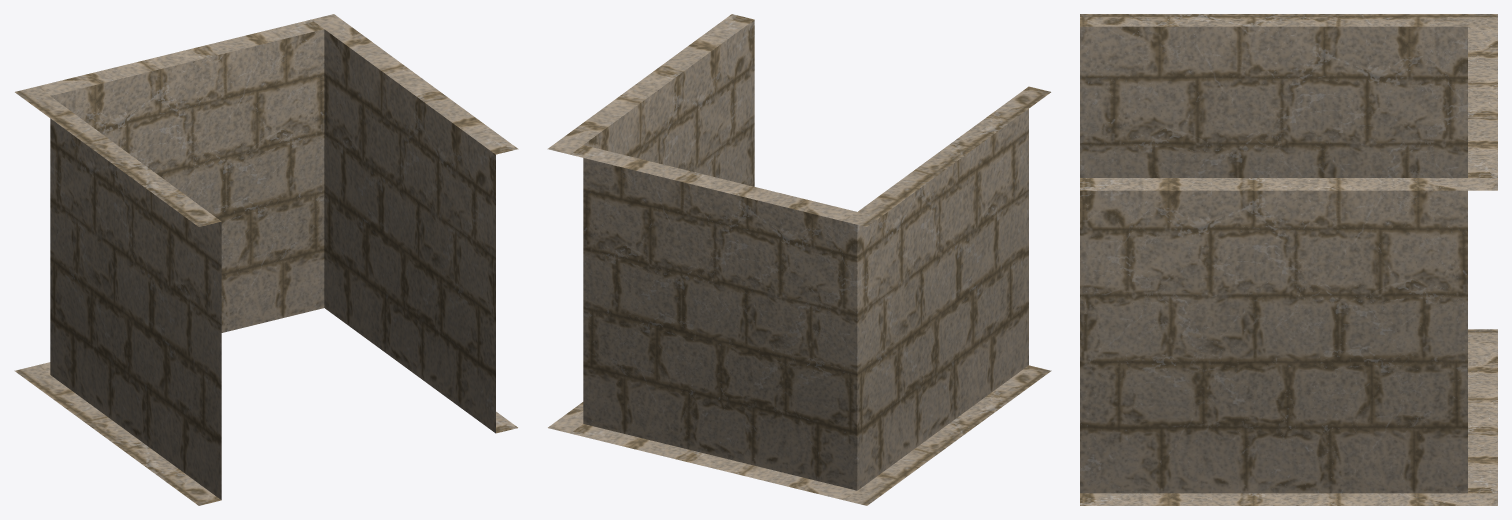
File: ModuleWallsNoFloor.fbx
3 renders of one model, left to right at view 1: azimuth 30°, elevation 25°; view 2: azimuth 150°, elevation 25°; view 3: azimuth 270°, elevation 25°, orthographic. The views are drawn at different scales.
Visible parts, largest first — view 1: ModuleWallsNoFloorWalls; view 2: ModuleWallsNoFloorWalls; view 3: ModuleWallsNoFloorWalls.
Part boxes in pixels (<box>): ModuleWallsNoFloorWalls: <box>14,14,518,505</box>; ModuleWallsNoFloorWalls: <box>547,14,1051,505</box>; ModuleWallsNoFloorWalls: <box>1080,14,1497,505</box>.
Bounding box in the file's own units: 300 × 250 × 300.
